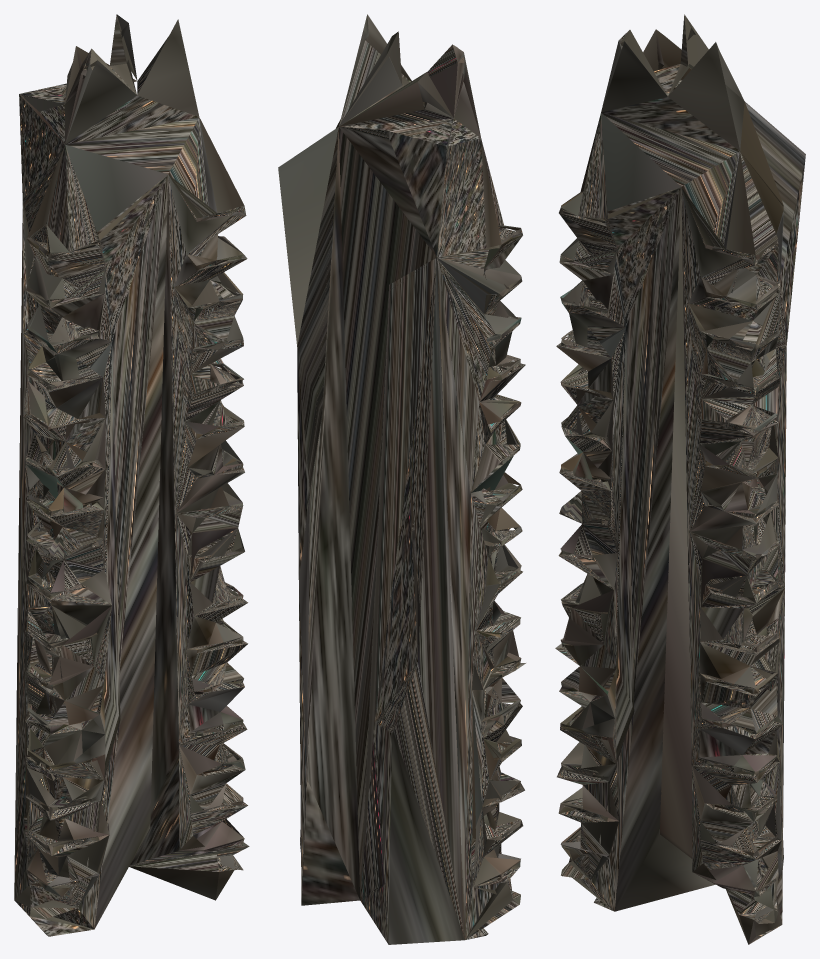
File: r04_far.glb
The picture shows the model from 3 angles, left to right: view 1: azimuth 30°, elevation 25°; view 2: azimuth 150°, elevation 25°; view 3: azimuth 330°, elevation 25°; orthographic projection.
Parts seen in each view (by area): view 1: r04_far; view 2: r04_far; view 3: r04_far.
Part boxes in pixels (x1=…): r04_far: x1=14, y1=14, x2=249, y2=936; r04_far: x1=278, y1=14, x2=525, y2=944; r04_far: x1=555, y1=14, x2=805, y2=944.
Size of the model in its own units: 55.12 by 224 by 29.59.
Materials: 1 (1 with a texture image).
